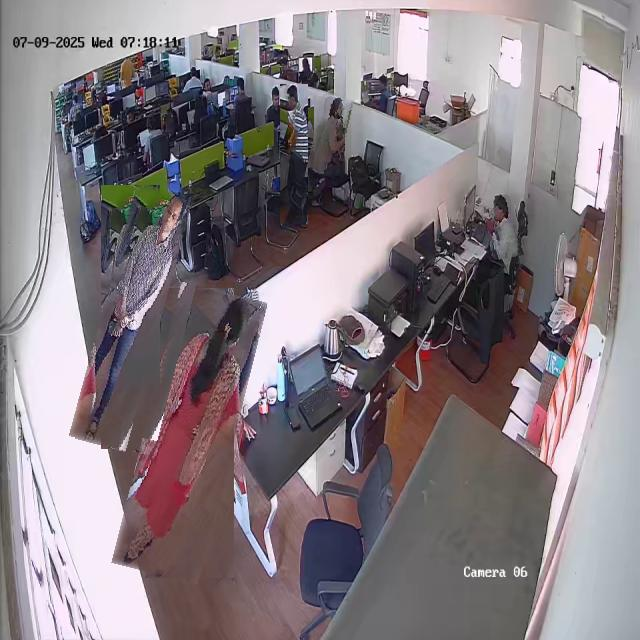person: (128, 285, 251, 581), (85, 184, 176, 451), (280, 84, 308, 224), (310, 95, 349, 179), (483, 191, 522, 260)
